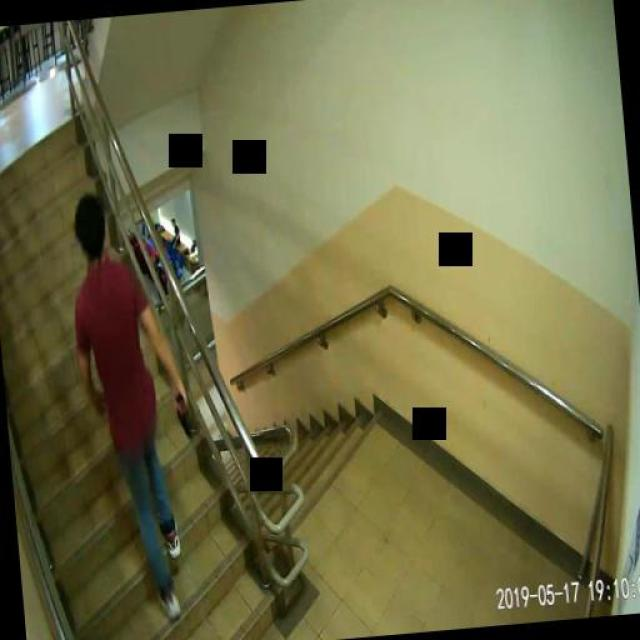gun: (171, 391, 190, 440)
